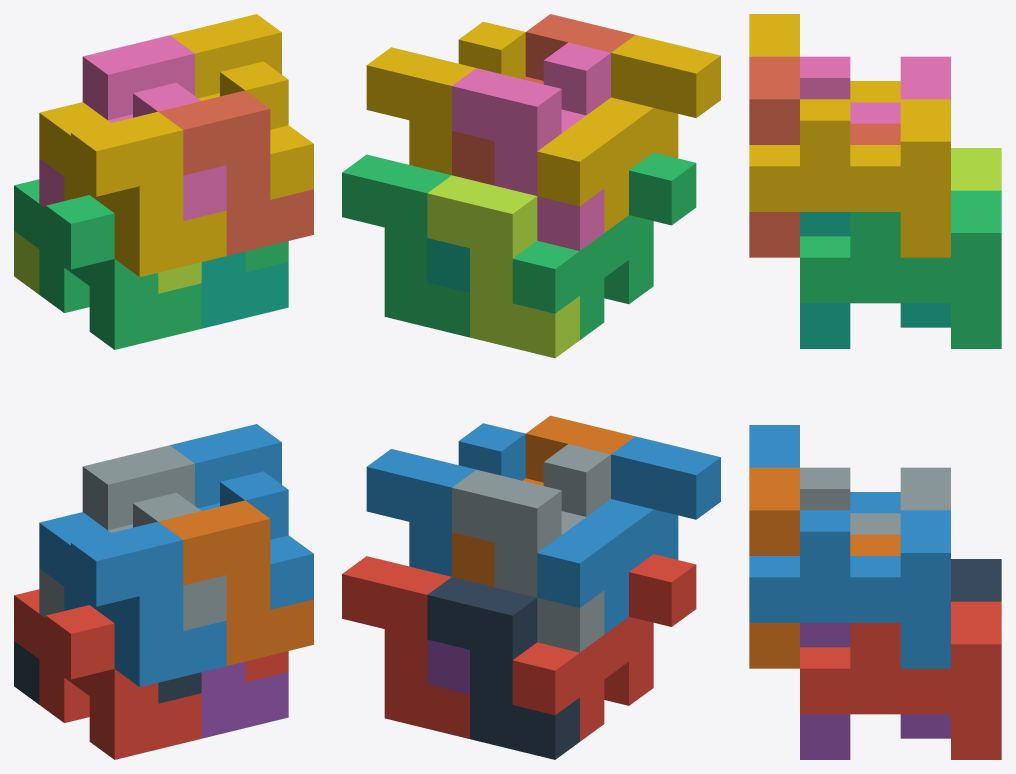
The model's file is tiling.obj.
The picture shows the model from 3 angles, left to right: view 1: azimuth 30°, elevation 25°; view 2: azimuth 150°, elevation 25°; view 3: azimuth 270°, elevation 25°; orthographic projection. The views are drawn at different scales.
Parts seen in each view (by area): view 1: copy_1_domain_4, copy_1_domain_2, copy_1_domain_3, copy_1_domain_1, copy_1_domain_6, copy_1_domain_8, copy_2_domain_2, copy_2_domain_4, copy_2_domain_8, copy_2_domain_6, copy_1_domain_5, copy_1_domain_7 (+4 smaller); view 2: copy_1_domain_2, copy_1_domain_4, copy_2_domain_2, copy_2_domain_4, copy_1_domain_3, copy_1_domain_1, copy_2_domain_3, copy_2_domain_1, copy_2_domain_7, copy_2_domain_5, copy_2_domain_8, copy_2_domain_6 (+4 smaller); view 3: copy_2_domain_6, copy_2_domain_8, copy_2_domain_5, copy_2_domain_7, copy_1_domain_6, copy_1_domain_8, copy_2_domain_2, copy_2_domain_4, copy_1_domain_5, copy_1_domain_7, copy_1_domain_2, copy_1_domain_4 (+2 smaller).
Boxes of the visible parts, box(x1,y1,x2,y2) form: copy_1_domain_4: box(39, 102, 226, 276); copy_1_domain_2: box(39, 512, 226, 686); copy_1_domain_3: box(14, 179, 201, 349); copy_1_domain_1: box(14, 589, 201, 759); copy_1_domain_6: box(158, 500, 313, 665); copy_1_domain_8: box(158, 90, 313, 255); copy_2_domain_2: box(39, 445, 226, 630); copy_2_domain_4: box(39, 35, 226, 220); copy_2_domain_8: box(170, 14, 313, 199); copy_2_domain_6: box(170, 424, 313, 609); copy_1_domain_5: box(201, 661, 288, 738); copy_1_domain_7: box(201, 251, 288, 328); copy_1_domain_2: box(537, 436, 720, 634); copy_1_domain_4: box(537, 35, 720, 232); copy_2_domain_2: box(452, 444, 610, 652); copy_2_domain_4: box(452, 42, 610, 250); copy_1_domain_3: box(512, 152, 696, 339); copy_1_domain_1: box(512, 554, 696, 741); copy_2_domain_3: box(427, 175, 579, 358); copy_2_domain_1: box(427, 577, 579, 759); copy_2_domain_7: box(342, 154, 469, 337); copy_2_domain_5: box(342, 556, 469, 738); copy_2_domain_8: box(366, 21, 525, 175); copy_2_domain_6: box(366, 423, 525, 576); copy_2_domain_6: box(749, 510, 950, 668); copy_2_domain_8: box(749, 99, 950, 257); copy_2_domain_5: box(800, 601, 1001, 759); copy_2_domain_7: box(800, 190, 1001, 348); copy_1_domain_6: box(749, 467, 900, 668); copy_1_domain_8: box(749, 56, 900, 257); copy_2_domain_2: box(800, 467, 950, 534); copy_2_domain_4: box(800, 56, 950, 123); copy_1_domain_5: box(800, 623, 950, 759); copy_1_domain_7: box(800, 212, 950, 348); copy_1_domain_2: box(749, 425, 900, 513); copy_1_domain_4: box(749, 14, 900, 102).
Bounding box in the file's own units: 6 × 14 × 5.
